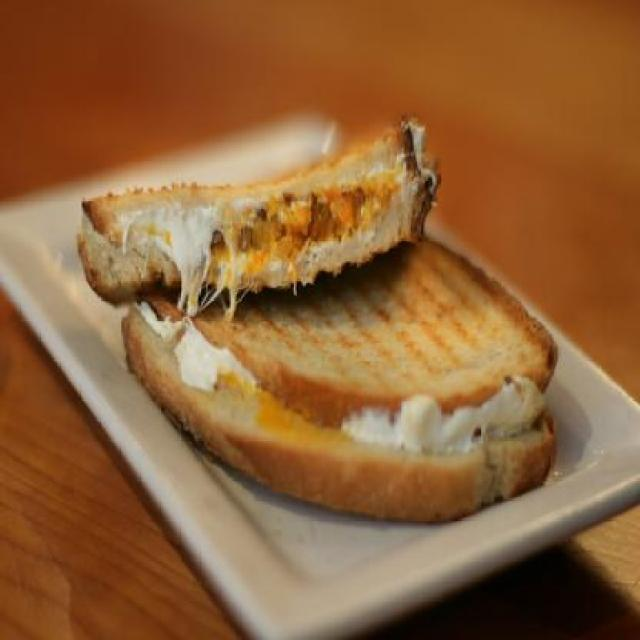Sandwich: (75, 117, 559, 520)
